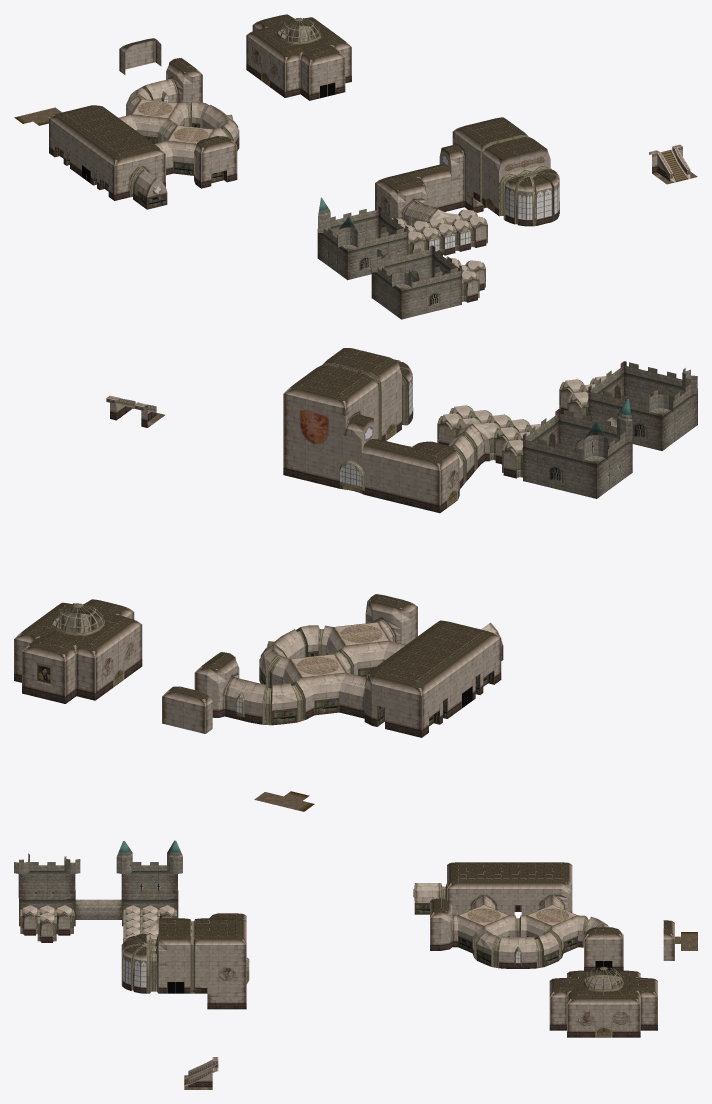
The picture shows the model from 3 angles, top to bottom: view 1: azimuth 30°, elevation 25°; view 2: azimuth 150°, elevation 25°; view 3: azimuth 270°, elevation 25°; orthographic projection. The views are drawn at different scales.
Visible parts, largest first — view 1: T1L7M004_396, T1L7M004_407, T1L7M004_434, T1L7M004_378, T1L7M004_408, T1L7M004_76, T1L7M004_436, T1L7M004_437, T1L7M004_435, T1L7M004_397, T1L7M004_347, T1L7M004_392 (+2 smaller); view 2: T1L7M004_347, T1L7M004_102, T1L7M004_414, T1L7M004_36, T1L7M004_186, T1L7M004_348, T1L7M004_349, T1L7M004_350, T1L7M004_232, T1L7M004_415, T1L7M004_53, T1L7M004_273 (+5 smaller); view 3: T1L7M004_381, T1L7M004_395, T1L7M004_396, T1L7M004_347, T1L7M004_234, T1L7M004_382, T1L7M004_427, T1L7M004_420, T1L7M004_368, T1L7M004_414, T1L7M004_434, T1L7M004_205 (+3 smaller).
Part boxes in pixels (box(x1,y1,x2,y2)): T1L7M004_396: box(338, 217, 358, 280); T1L7M004_407: box(517, 180, 544, 226); T1L7M004_434: box(392, 269, 412, 319); T1L7M004_378: box(494, 153, 510, 216); T1L7M004_408: box(533, 176, 557, 223); T1L7M004_76: box(171, 67, 192, 104); T1L7M004_436: box(427, 272, 442, 313); T1L7M004_437: box(442, 268, 457, 309); T1L7M004_435: box(411, 275, 426, 316); T1L7M004_397: box(357, 236, 372, 277); T1L7M004_347: box(317, 197, 330, 262); T1L7M004_392: box(503, 181, 517, 224); T1L7M004_347: box(583, 422, 607, 498); T1L7M004_102: box(310, 669, 341, 715); T1L7M004_414: box(649, 390, 673, 450); T1L7M004_36: box(207, 663, 231, 717); T1L7M004_186: box(354, 637, 385, 677); T1L7M004_348: box(565, 448, 584, 495); T1L7M004_349: box(547, 443, 565, 491); T1L7M004_350: box(528, 439, 546, 486); T1L7M004_232: box(382, 601, 410, 644); T1L7M004_415: box(631, 400, 649, 447); T1L7M004_53: box(272, 683, 304, 725); T1L7M004_273: box(295, 404, 314, 447); T1L7M004_381: box(150, 934, 166, 993); T1L7M004_395: box(133, 948, 149, 993); T1L7M004_396: box(116, 841, 132, 899); T1L7M004_347: box(167, 840, 182, 893); T1L7M004_234: box(441, 907, 458, 950); T1L7M004_382: box(132, 862, 149, 893); T1L7M004_427: box(30, 862, 47, 893); T1L7M004_420: box(47, 862, 64, 893); T1L7M004_368: box(150, 862, 166, 893); T1L7M004_414: box(64, 856, 80, 893); T1L7M004_434: box(14, 853, 29, 897); T1L7M004_205: box(477, 934, 498, 968).
Bounding box in the file's own units: 115 × 28.5 × 160.
